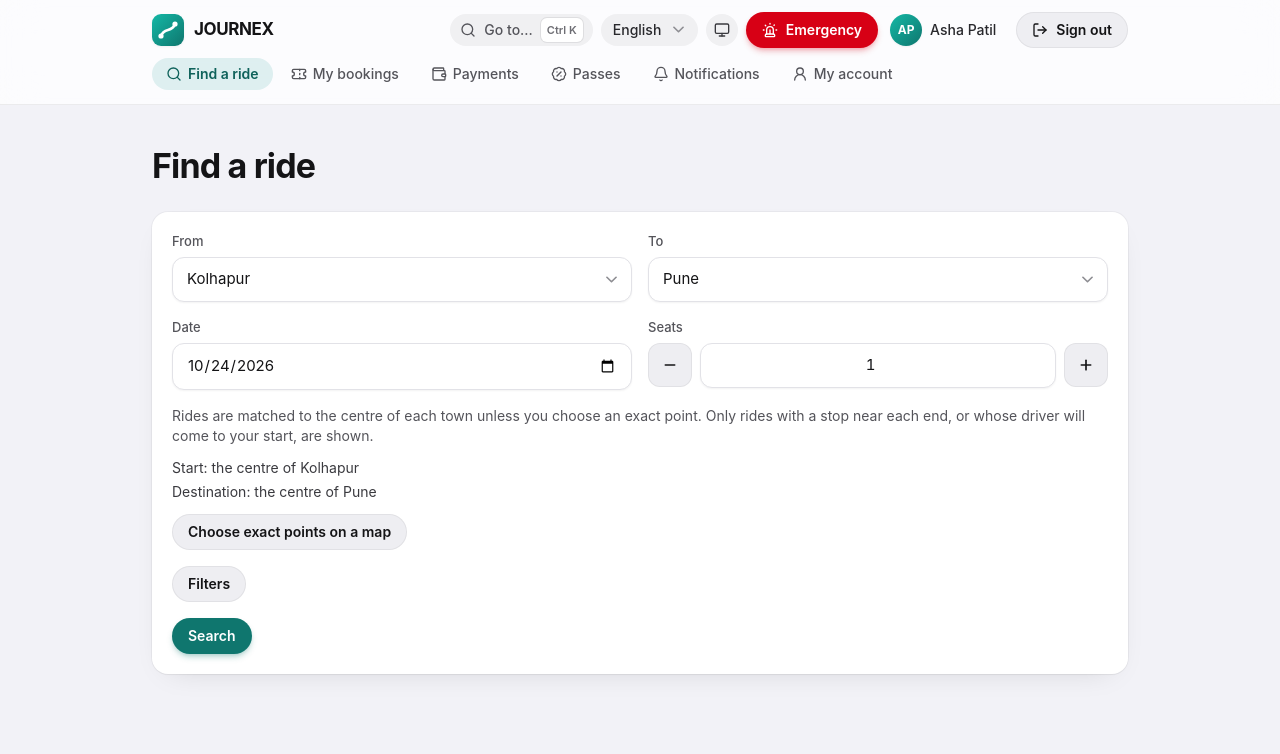
Test case: finding and booking a ride › searches, shows the total for the party, and requests the booking
The width and height of the screenshot is (1280, 754).
Step 1. Replace the text in the number field labelled "Seats" with "2" → (878, 365), box [700,343,1056,388]
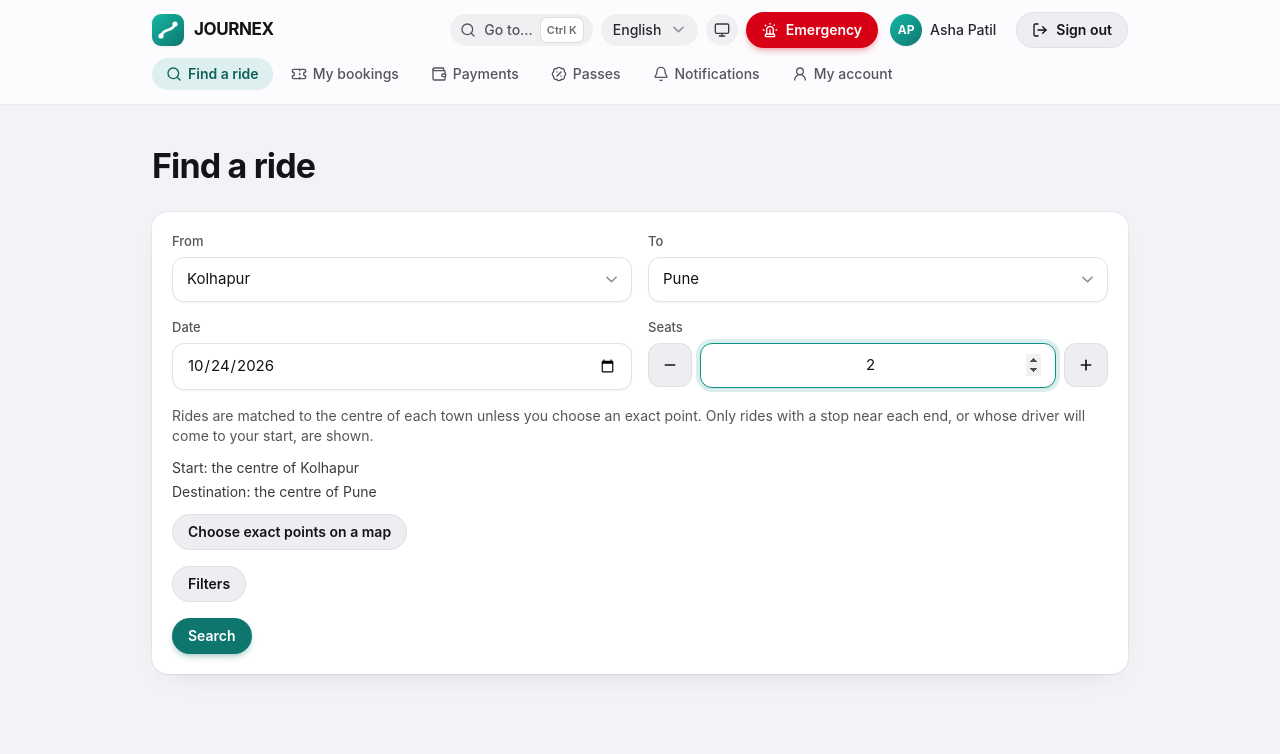
Step 2. Click the button "Search" → (212, 636), box [172,618,252,654]
(page scrolled)
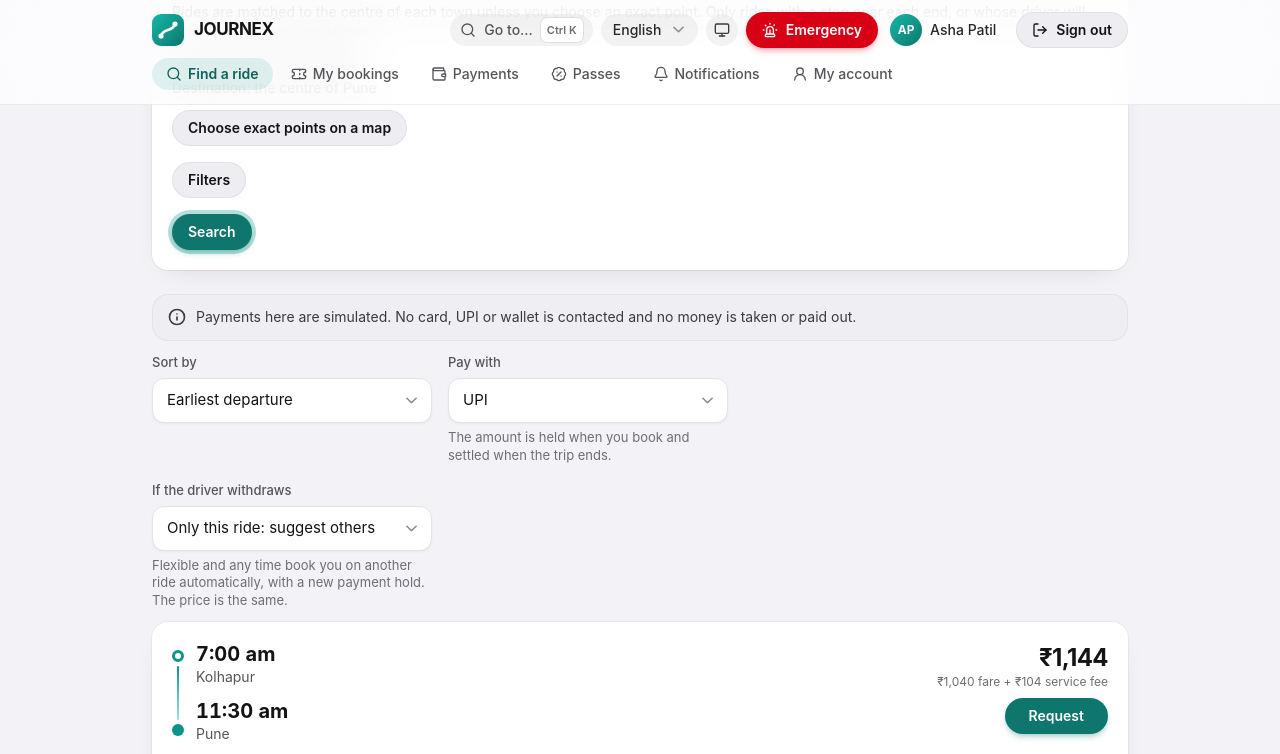
Expected: the text "₹1,144" is shown, [1039,643,1108,672]
Expected: the text "₹1,040 fare + ₹104 service fee" is shown, [937,674,1108,690]
Expected: the text "Payments here are simulated" is shown, [196,308,856,324]
Step 3. Select "Card" in the dropdown labelled "Pay with" → (588, 400), box [448,378,728,422]
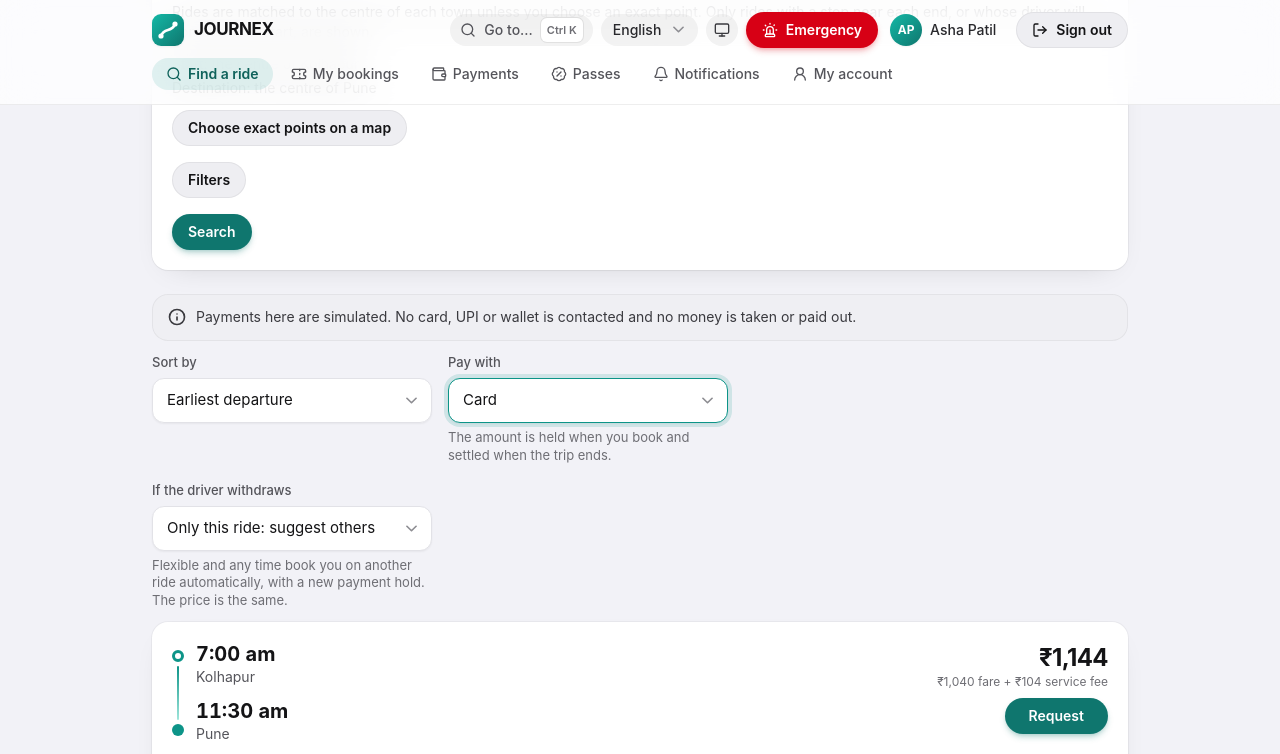
Step 4. Click the button "Request" → (1056, 716), box [1004,698,1108,734]
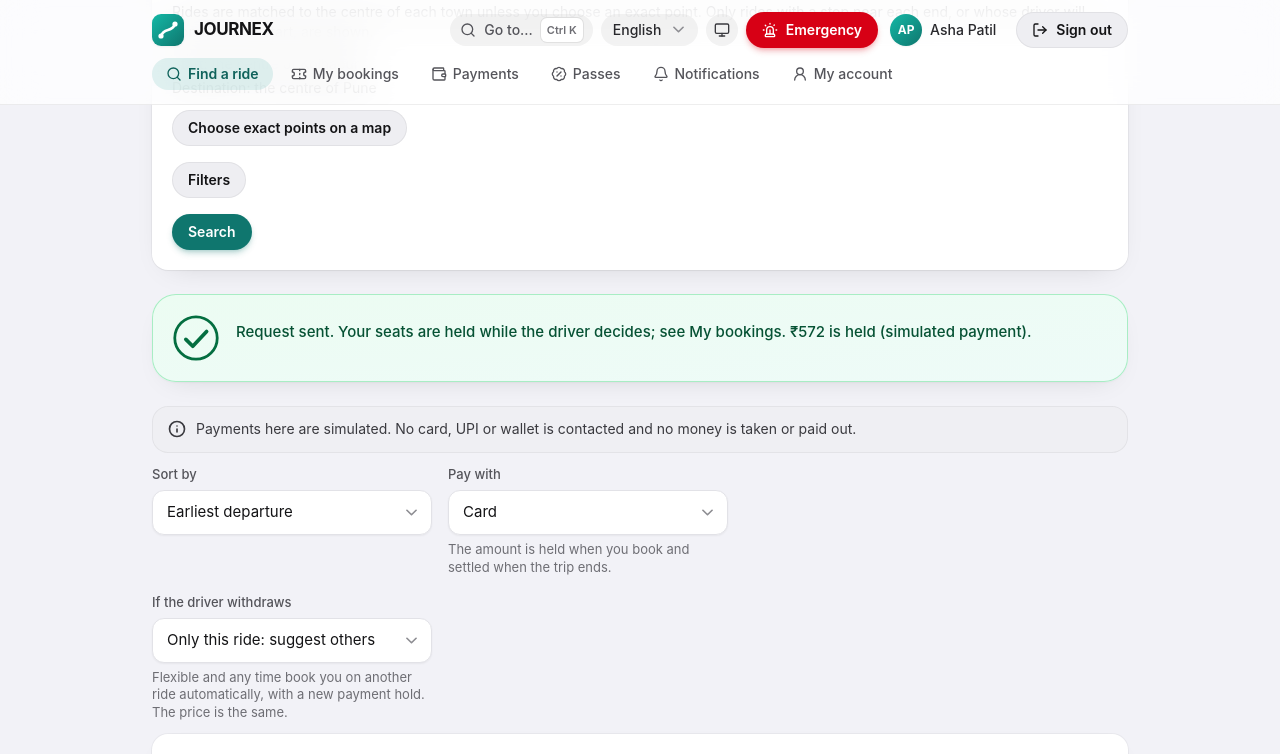
Expected: the text "Request sent" shows "₹572 is held (simulated payment)", [786,322,1032,340]
